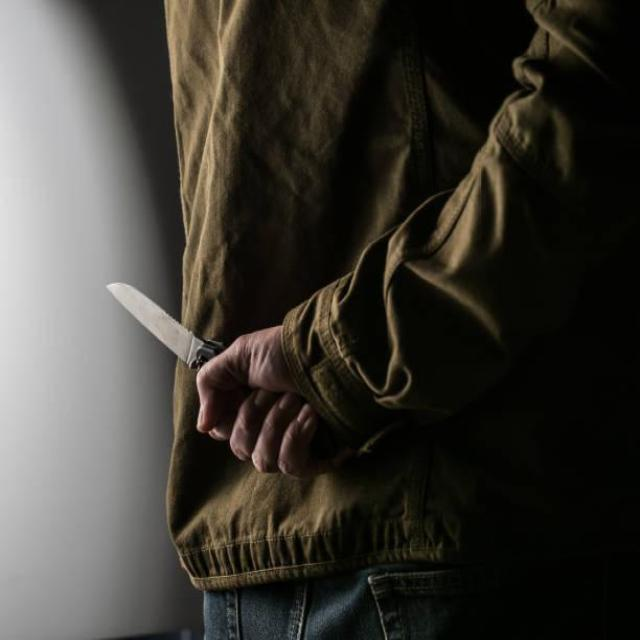faca: (95, 262, 341, 474)
